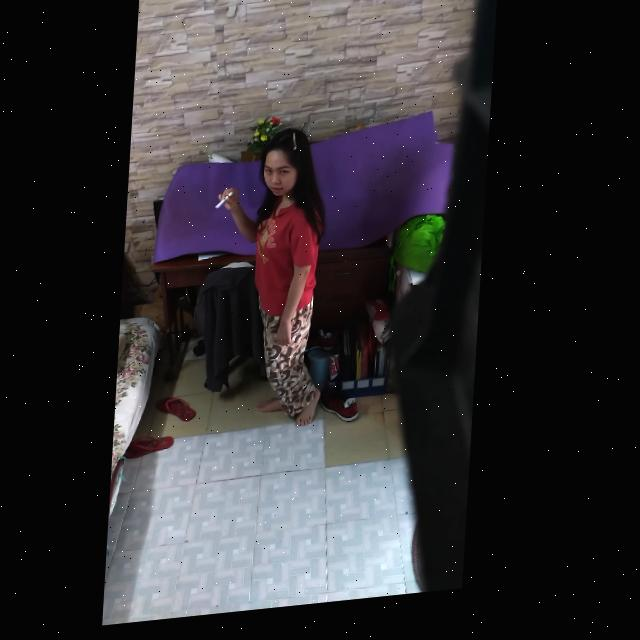cigarette: (219, 197, 236, 214)
